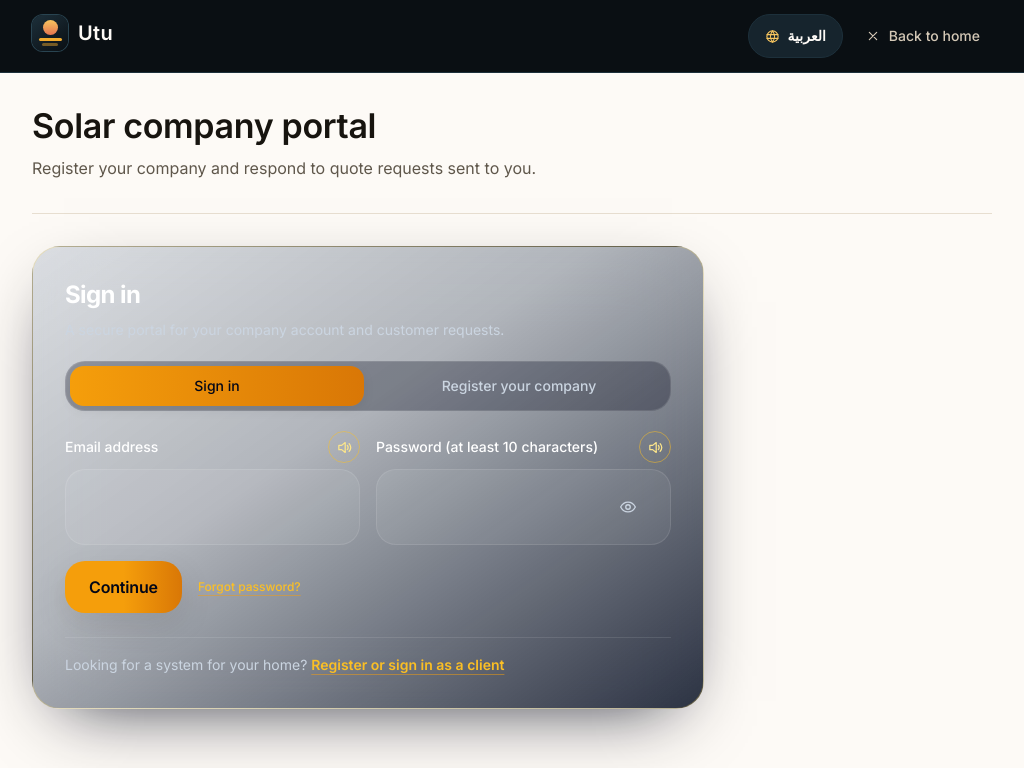
Test: CompanyPortalPage quote marketplace › company sign-in screen › turns a client account away without signing it in
Check: the tab "Sign in" is shown, box [70,366,364,406]
Type "client@example.com" into the field labelled "Email address" at (212, 507), box [82,482,343,532]
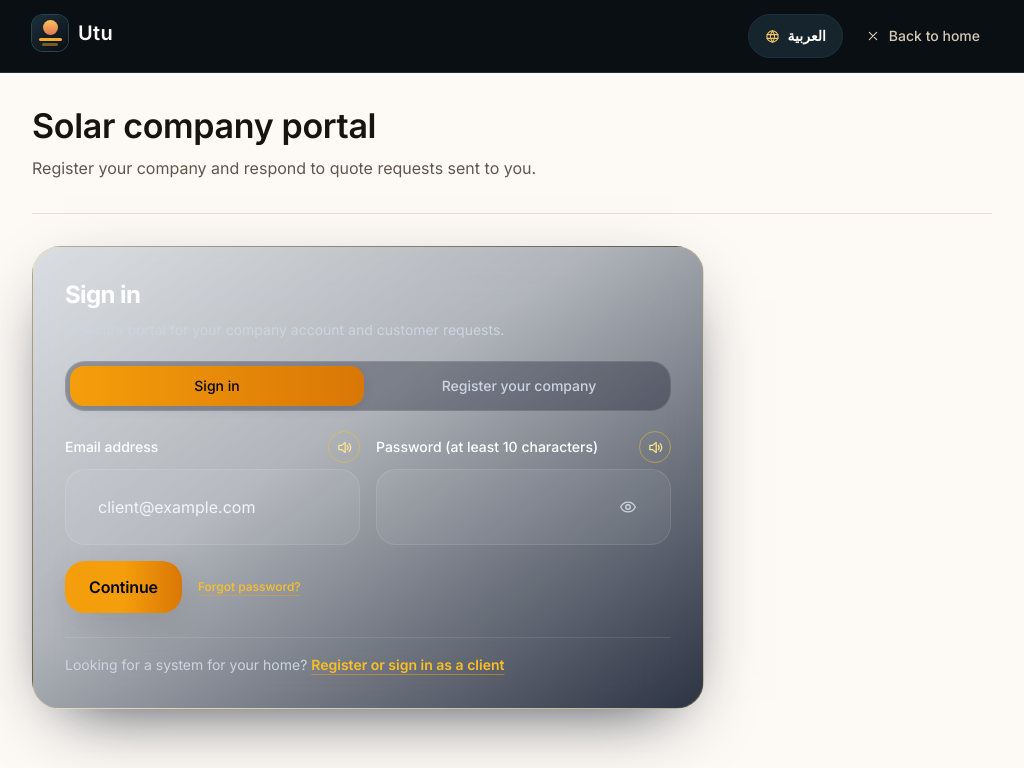
Type "a-long-client-password" into the password field labelled "Password (at least 10 characters)" at (496, 507), box [393,482,600,532]
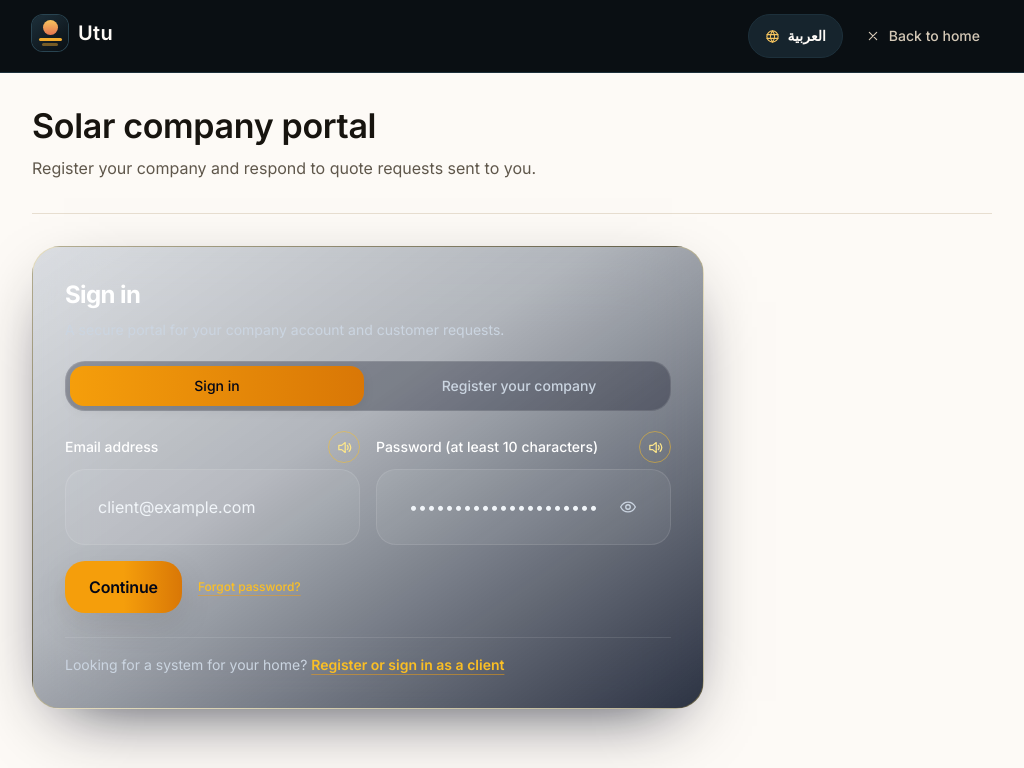
Click the button "Continue" at (123, 587), box [65,561,182,613]
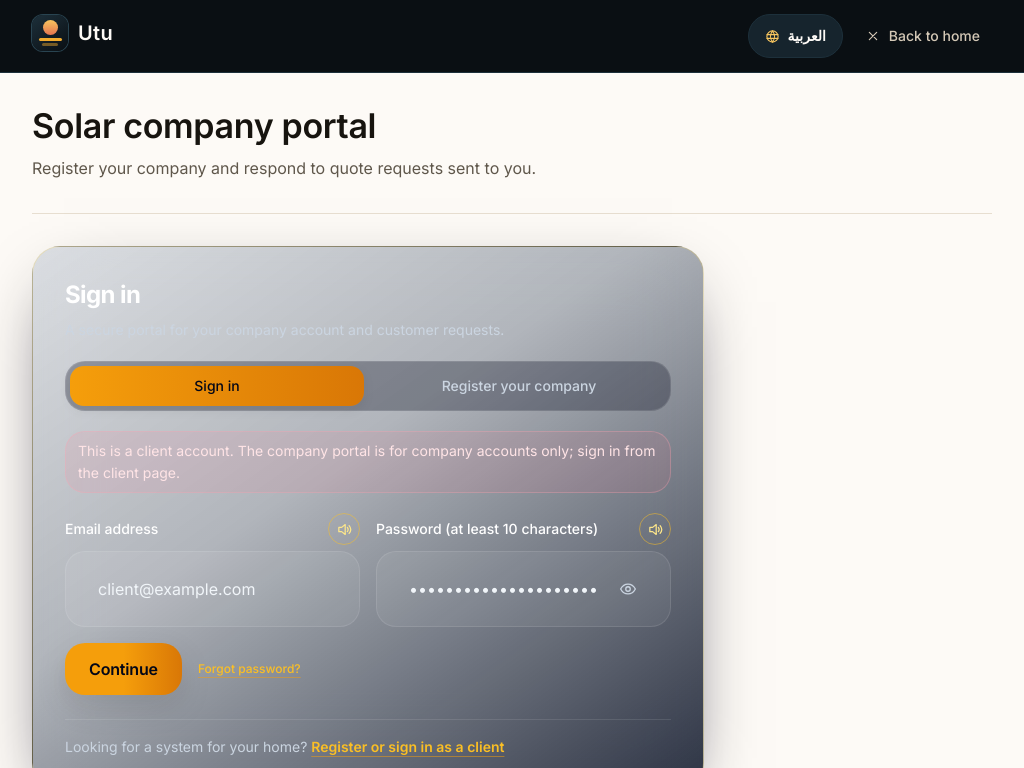
Check: the message shows "This is a client account.", box [78,442,655,481]
